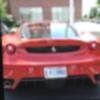License_Plate: (44, 67, 67, 78)
